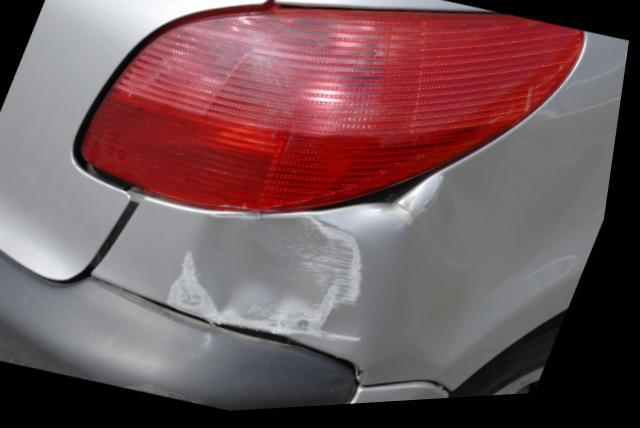dent: (417, 78, 628, 369), (200, 218, 380, 355)
scratch: (171, 253, 230, 331)
